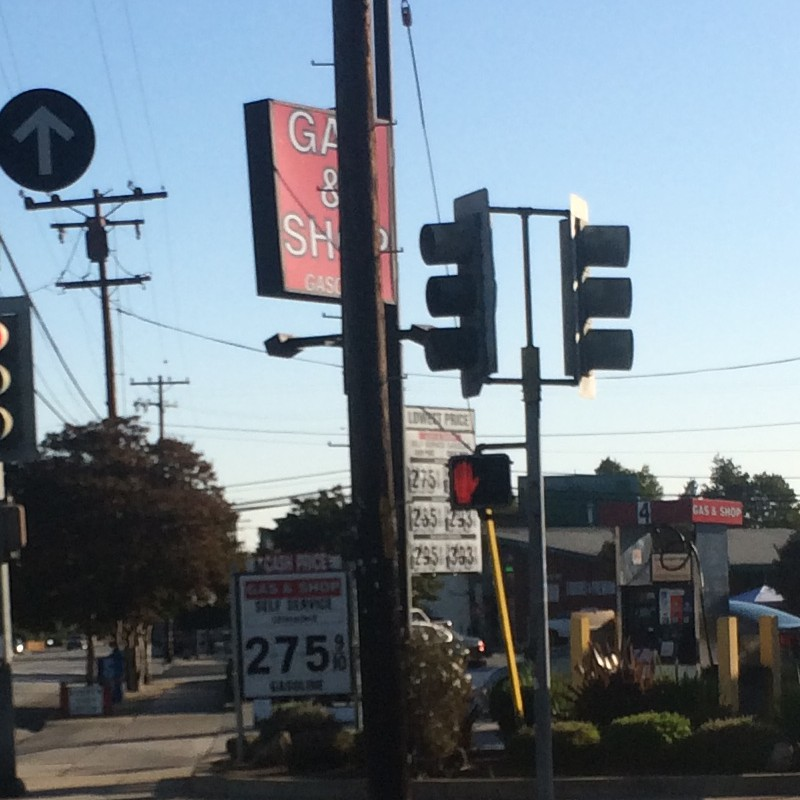stop: (445, 458, 517, 510)
